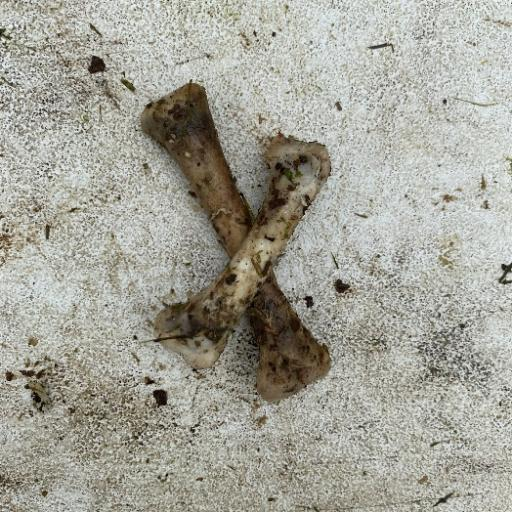Waste: (137, 78, 335, 403)
